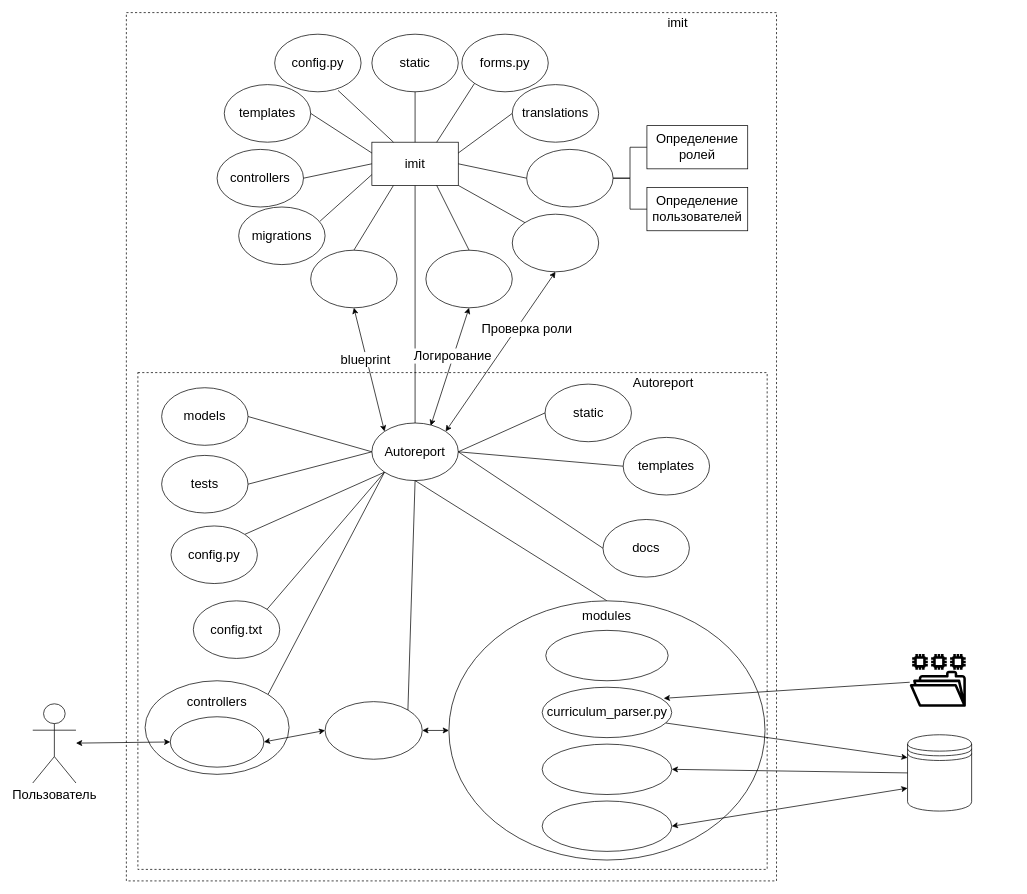
Some shapes in this 1027 by 894 pixel diagram are drawn without their labels. Here are the shapes that lost their labels. From the top down, the centre of each, then its label:
At point (569, 178): "models.py".
At point (555, 242): "utils.py".
At point (353, 278): "__init__.py".
At point (468, 278): "LOG_FILE".
At point (606, 655): "report_generator.py".
At point (937, 680): "Файловая система ИМИТ".
At point (217, 741): "autoreport.py".
At point (373, 730): "funcs.py".
At point (606, 769): "curriculum_getter.py".
At point (939, 772): "БД".
At point (606, 825): "report_state.py".
